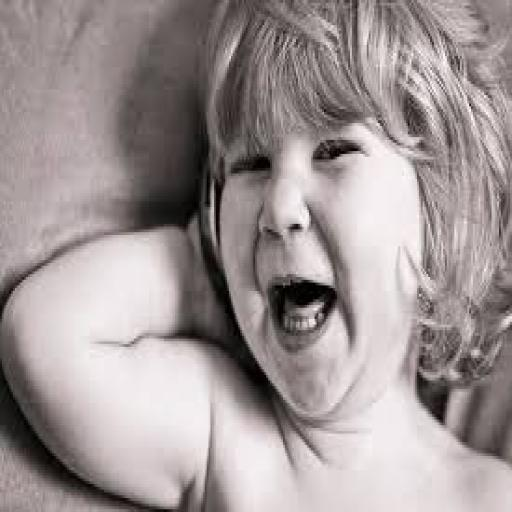laughing: (0, 0, 508, 509)
